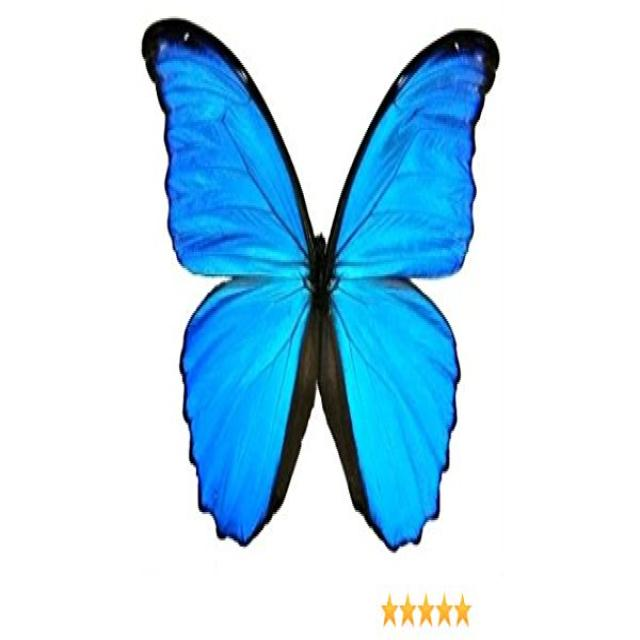cat: (145, 26, 480, 517)
